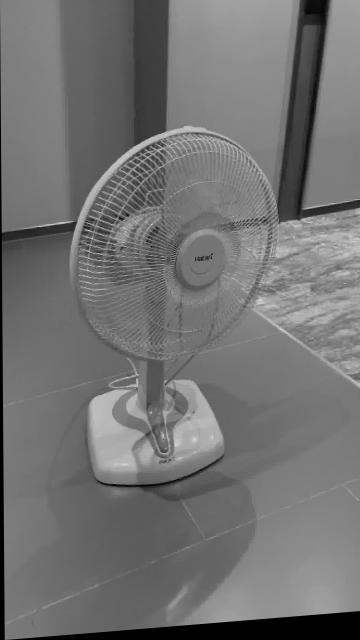Fan: (72, 130, 279, 490)
